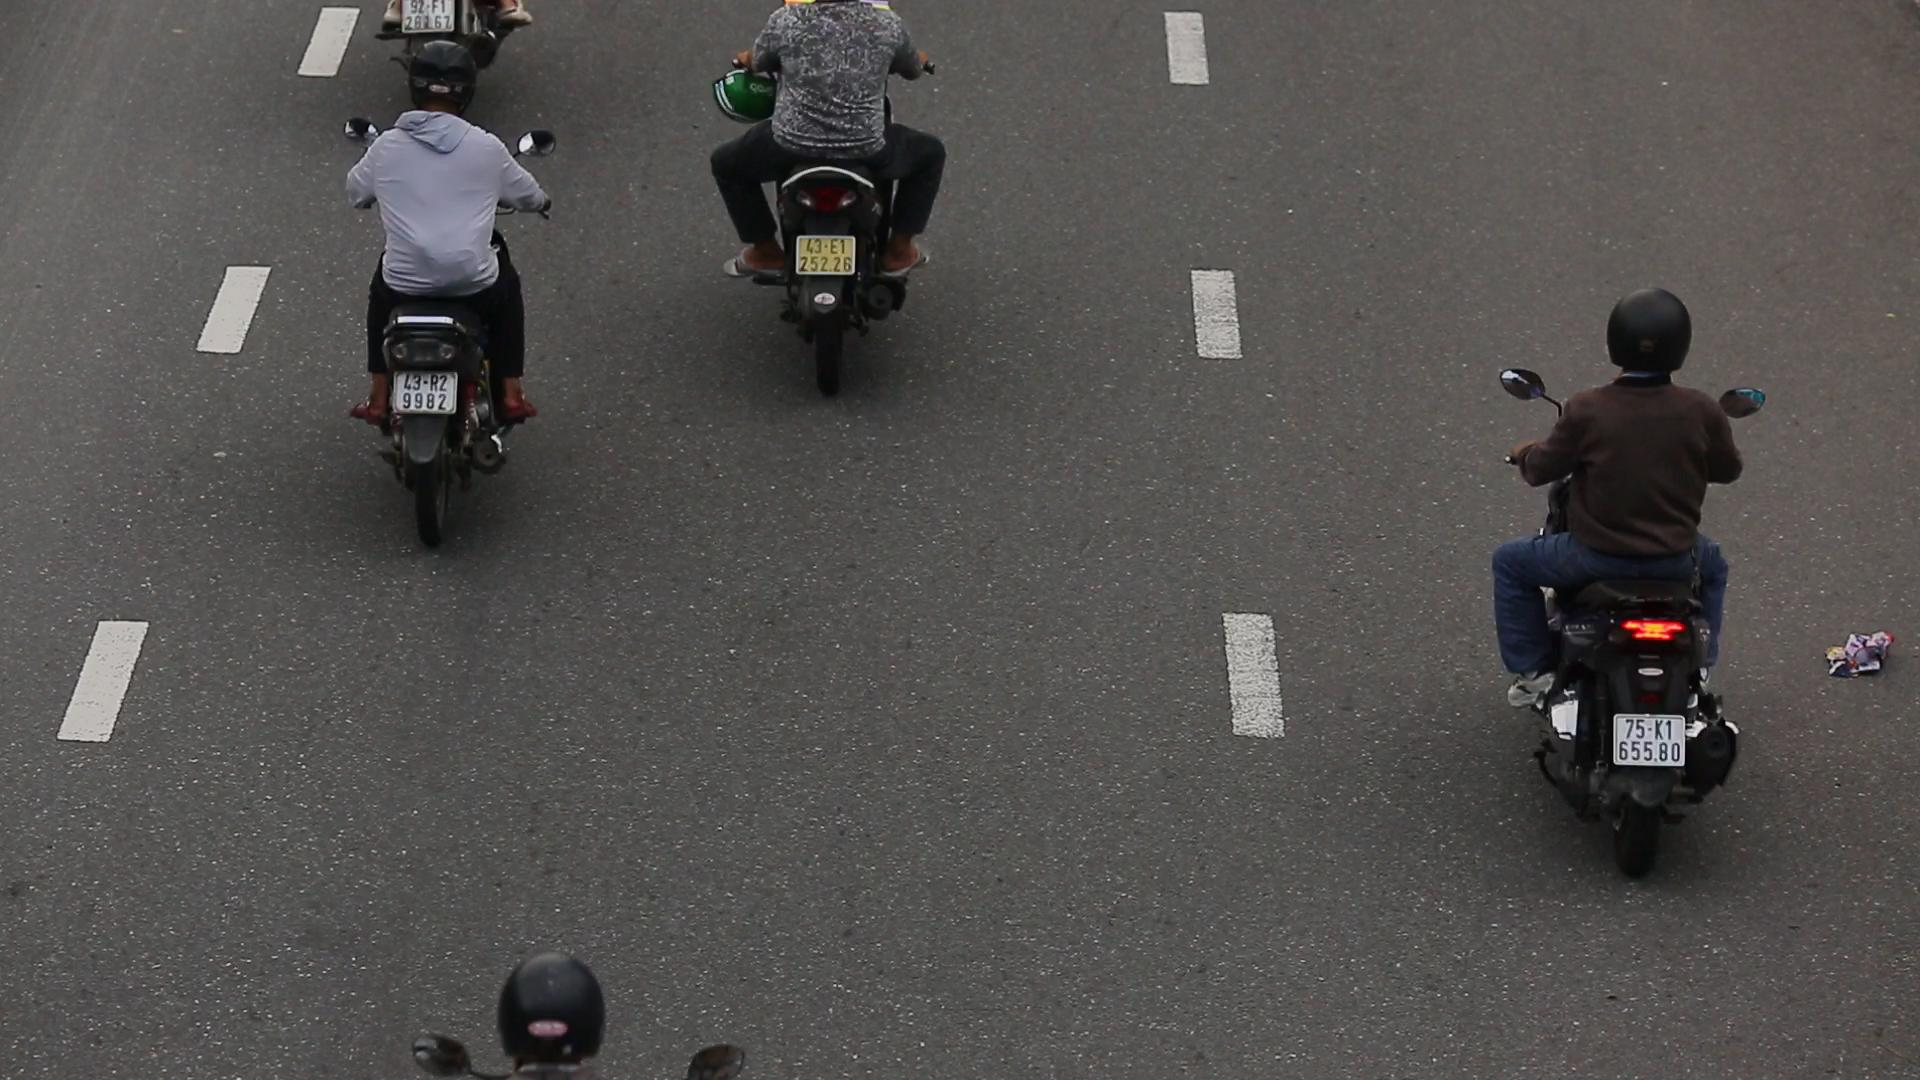motobike: (1470, 257, 1788, 897), (339, 34, 579, 563)
